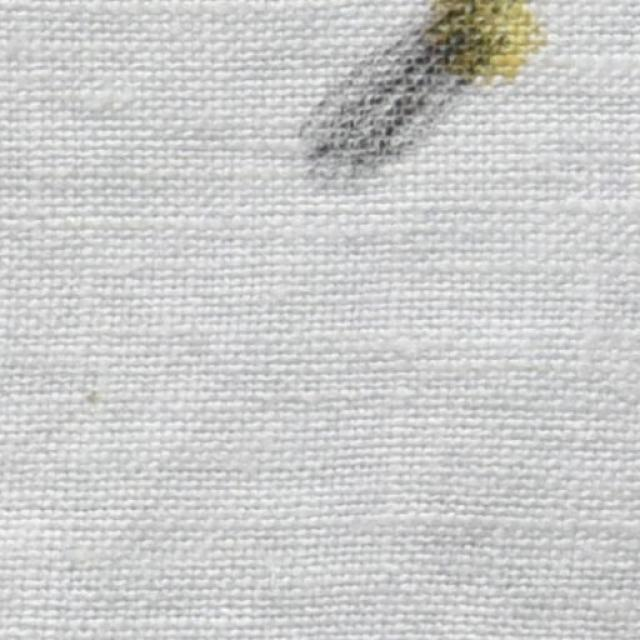Stain: (305, 0, 549, 186)
